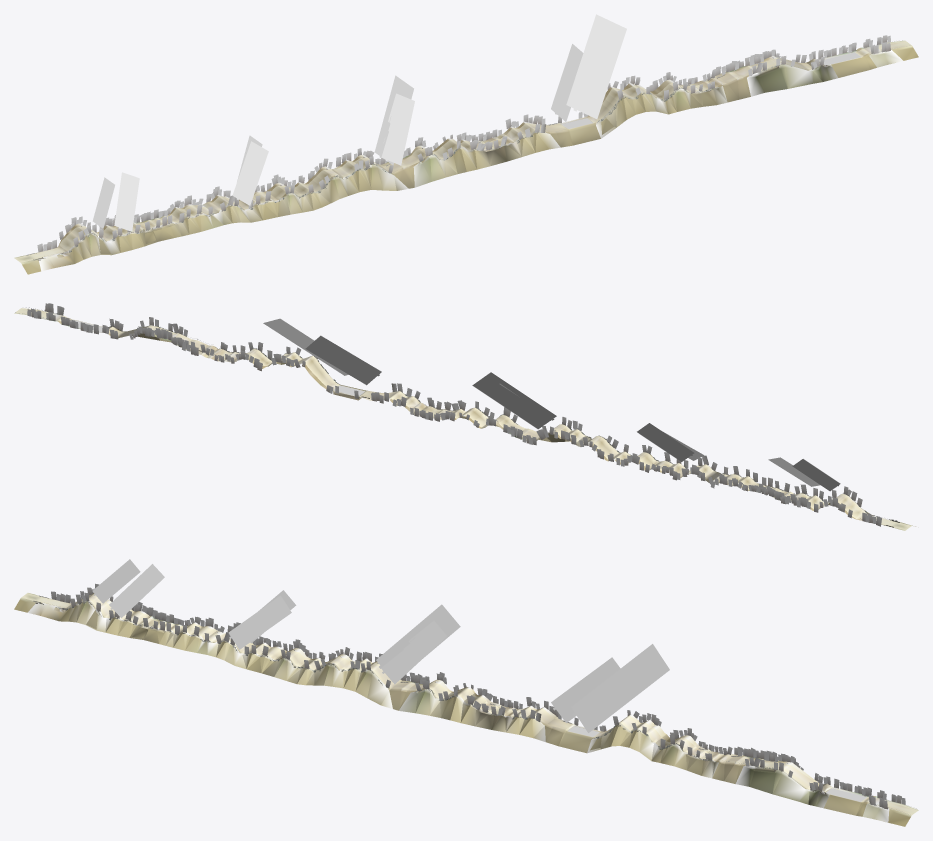
File: Beach_06.fbx
3 renders of one model, top to bottom at view 1: azimuth 30°, elevation 25°; view 2: azimuth 150°, elevation 25°; view 3: azimuth 330°, elevation 25°, orthographic.
Parts seen in each view (by area): view 1: Mountain_01, Light_01, Tree_01, Ground_01, Road_01; view 2: Tree_01, Light_01, Ground_01, Road_01; view 3: Mountain_01, Light_01, Tree_01, Road_01, Ground_01.
Boxes of the visible parts, <box> form: Mountain_01: <box>38,50,903,271</box>; Light_01: <box>92,14,626,231</box>; Tree_01: <box>37,35,890,260</box>; Ground_01: <box>15,41,911,262</box>; Road_01: <box>14,40,918,274</box>; Tree_01: <box>27,303,897,526</box>; Light_01: <box>263,318,840,491</box>; Ground_01: <box>16,308,911,530</box>; Road_01: <box>14,308,915,530</box>; Mountain_01: <box>27,600,889,822</box>; Light_01: <box>92,559,669,732</box>; Tree_01: <box>35,583,905,809</box>; Road_01: <box>14,593,918,826</box>; Ground_01: <box>21,593,916,815</box>.
Bounding box in the file's own units: 99396 × 9993 × 7101.
